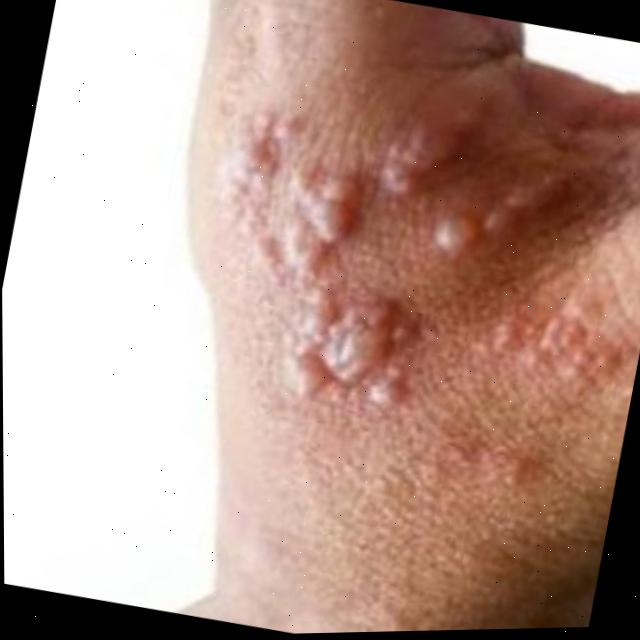Shingles: (184, 63, 640, 466)
